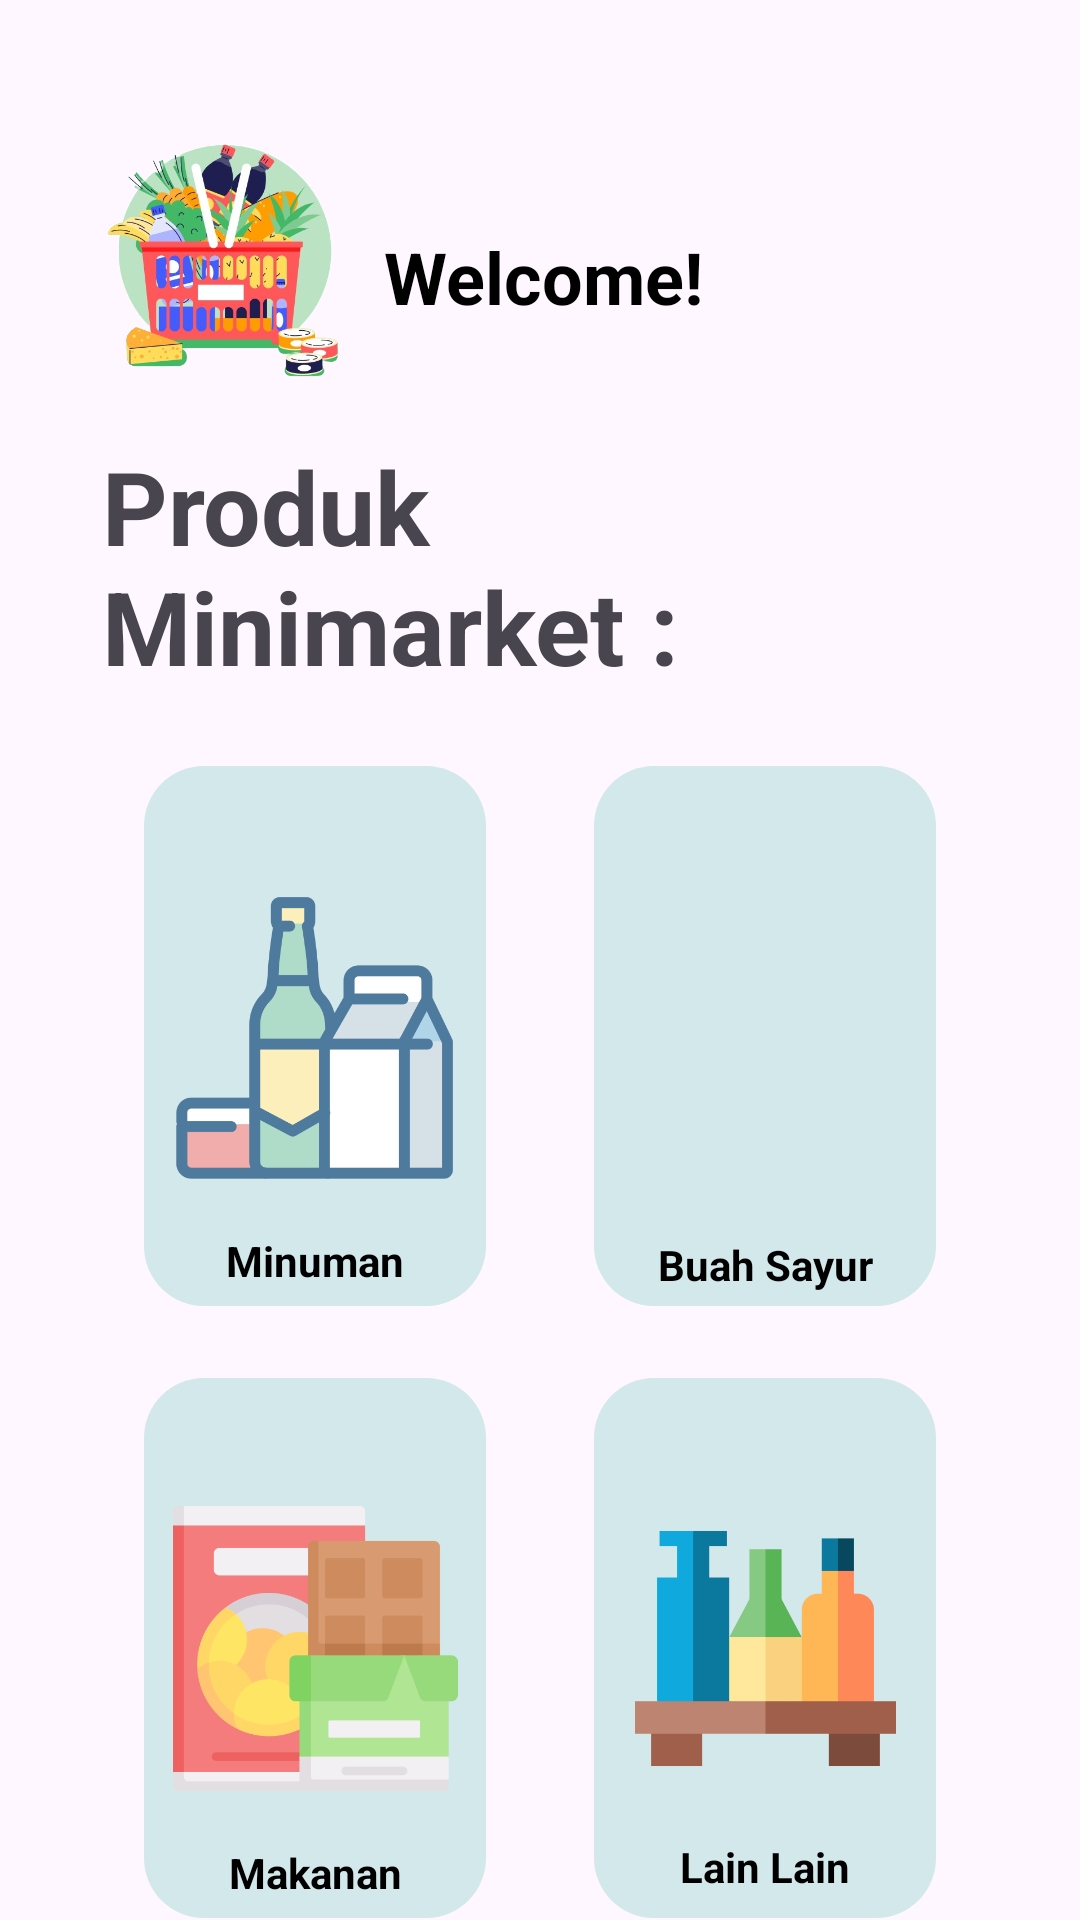

Screen size 1080×1920. Icon name, then its box in pixels as bbox=(x1, y1, x2, y2):
household: bbox=(635, 1531, 896, 1766)
